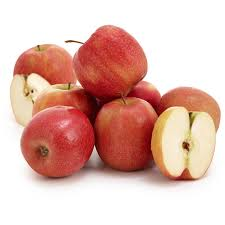apple: (74, 26, 149, 96), (22, 111, 92, 180), (92, 101, 161, 170), (15, 42, 79, 89), (31, 83, 96, 125), (162, 85, 222, 125)
damaged_apple: (154, 104, 218, 179), (8, 72, 55, 124)
